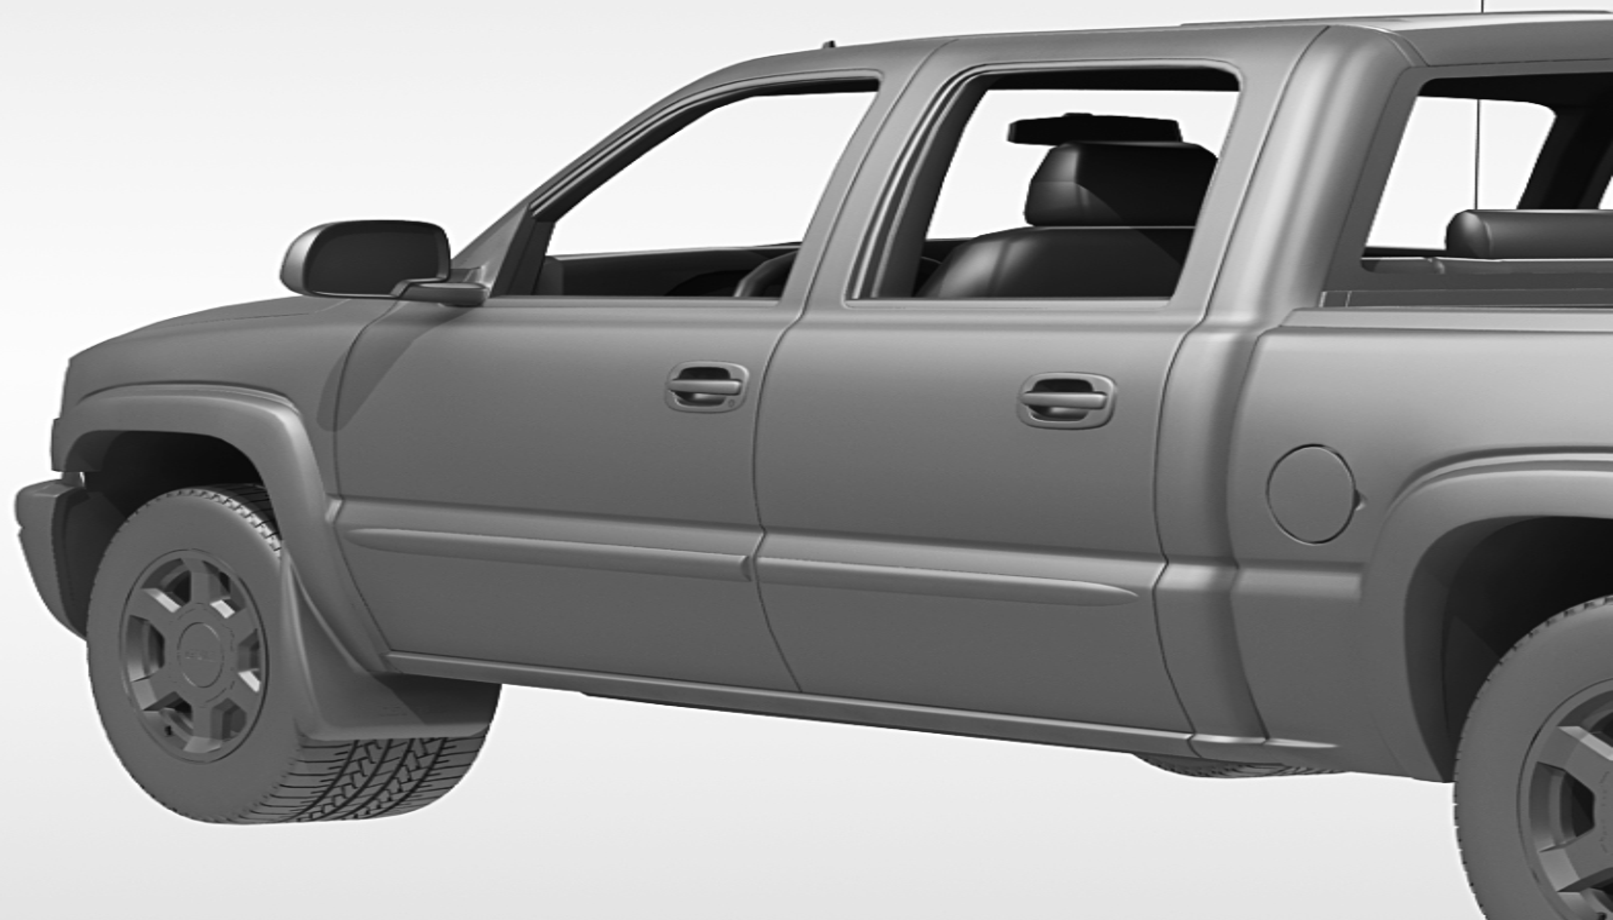hatch: (1258, 438, 1367, 551)
